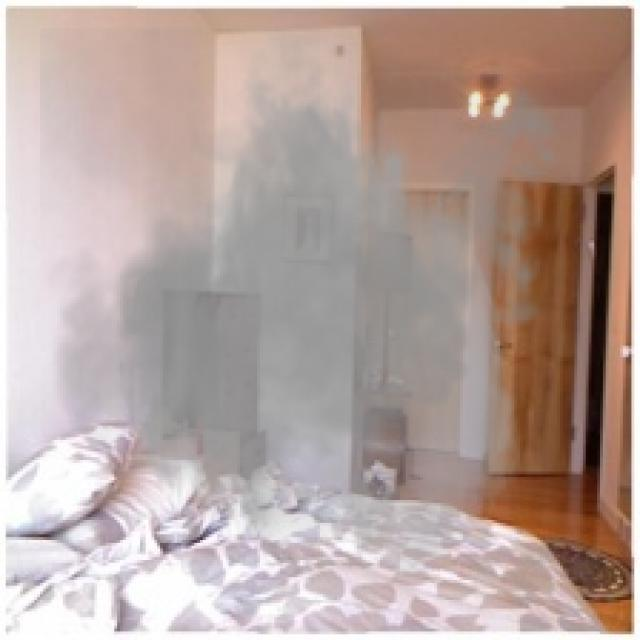Smoke: (40, 28, 577, 583)
